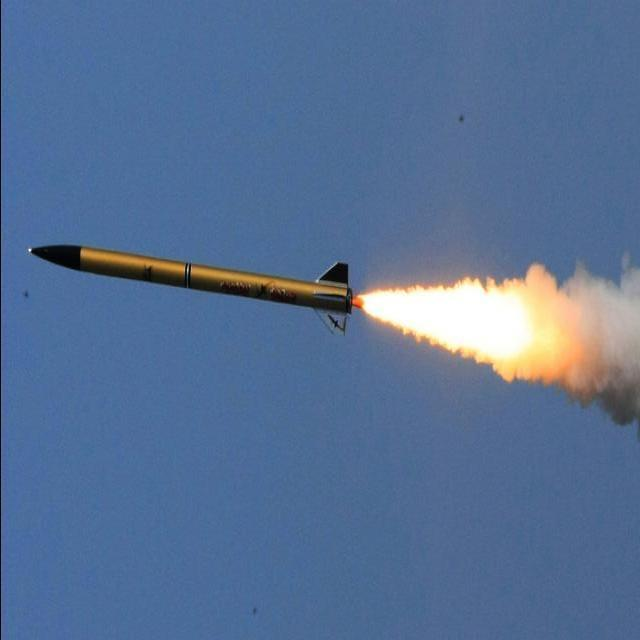missile: (29, 238, 374, 356)
